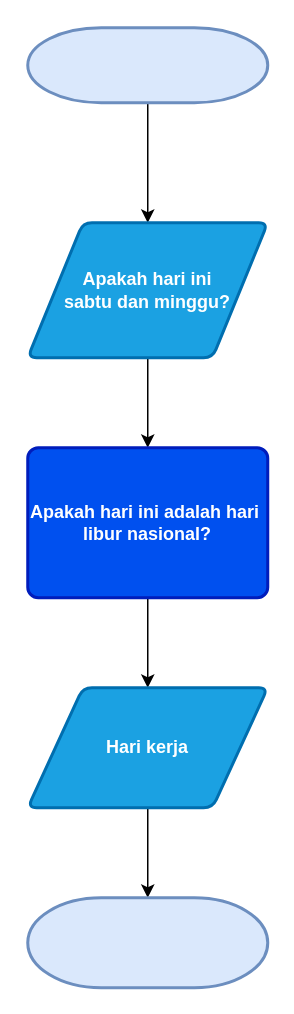
Some shapes in this 294 by 1014 pixel diagram are drawn without their labels. The shapes that lost their labels are listed below. From the top down, each one's centre as x and y in pixels, then its label:
At point (147, 65): "Start".
At point (147, 942): "Finish".
